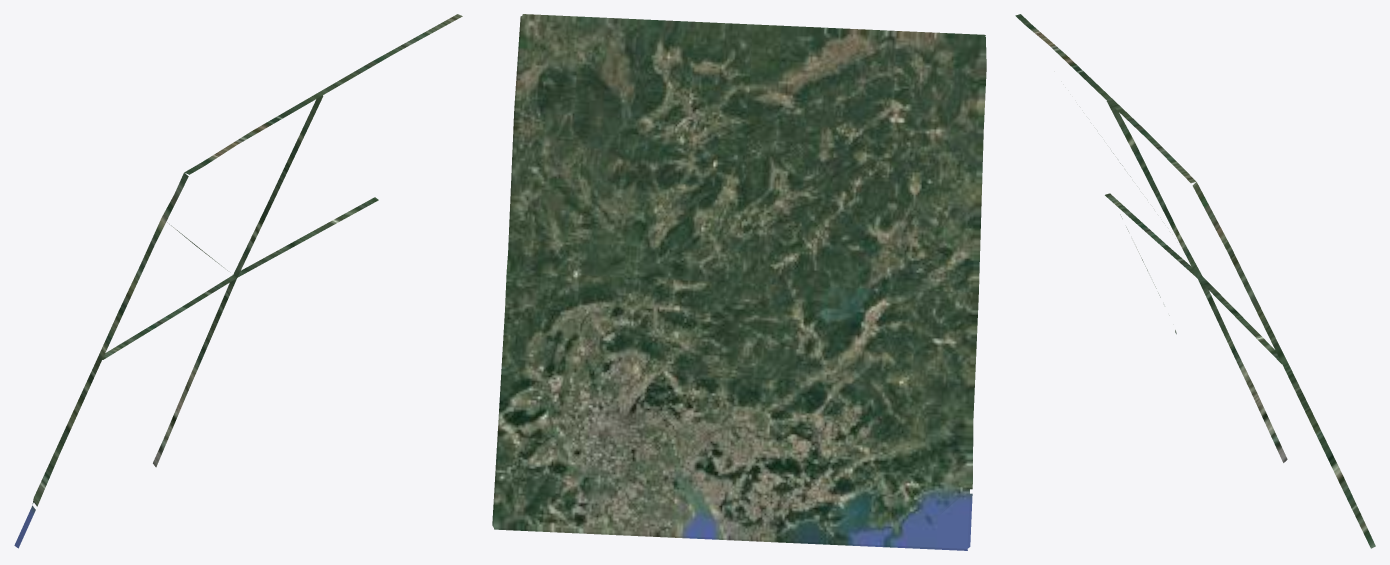
The picture shows the model from 3 angles, left to right: view 1: azimuth 30°, elevation 25°; view 2: azimuth 150°, elevation 25°; view 3: azimuth 270°, elevation 25°; orthographic projection. The views are drawn at different scales.
Size of the model in its own units: 316439 by 289275 by 236494.
Materials: 1 (1 with a texture image).
